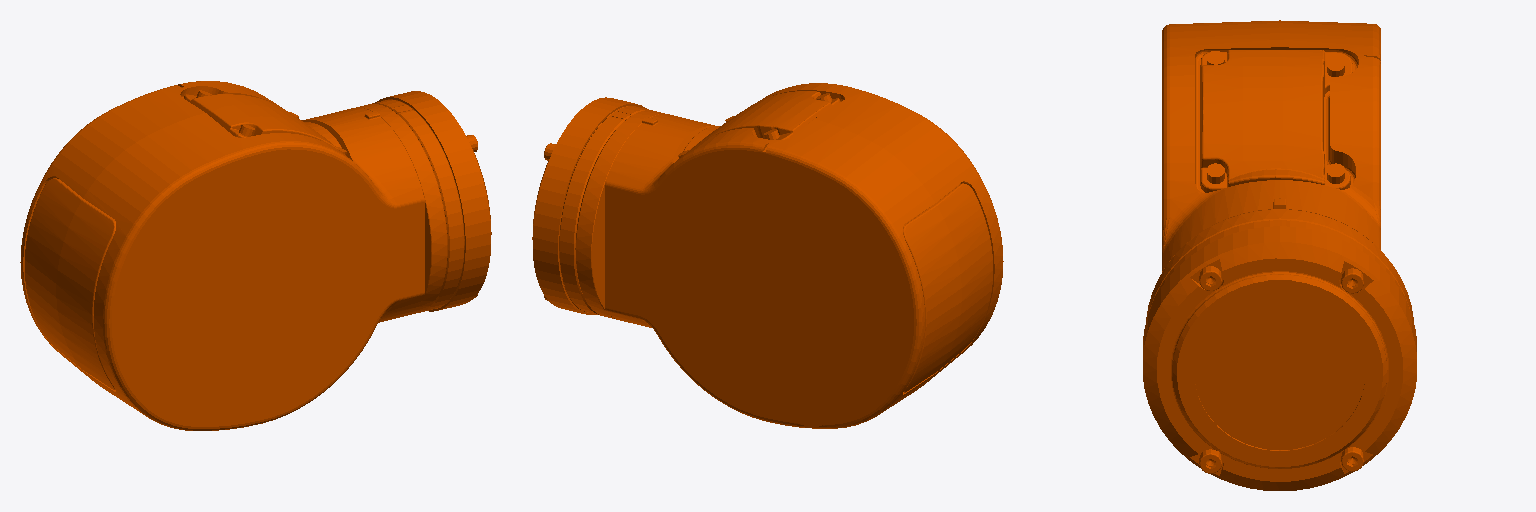
URDF robot description (IRB1200_5_90_STD):
<?xml version="1.0" ?>
<robot name="IRB1200_5_90_STD">

<link name="base_link">
  <inertial>
    <origin xyz="-0.023637177591968993 0.0004754421976295026 0.11218867494644966" rpy="0 0 0"/>
    <mass value="83.56354769083484"/>
    <inertia ixx="0.579276" iyy="0.781207" izz="0.698188" ixy="0.004313" iyz="-0.001283" ixz="-0.005073"/>
  </inertial>
  <visual>
    <origin xyz="0 0 0" rpy="0 0 0"/>
    <geometry>
      <mesh filename="meshes/base_link.stl" scale="0.001 0.001 0.001"/>
    </geometry>
  </visual>
  <collision>
    <origin xyz="0 0 0" rpy="0 0 0"/>
    <geometry>
      <mesh filename="meshes/base_link.stl" scale="0.001 0.001 0.001"/>
    </geometry>
  </collision>
</link>

<link name="link_1">
  <inertial>
    <origin xyz="-0.0032935657511956266 0.0004389797692321195 0.1023344133013073" rpy="0 0 0"/>
    <mass value="47.59365241562889"/>
    <inertia ixx="0.595053" iyy="0.377165" izz="0.433688" ixy="-0.000188" iyz="0.000756" ixz="-0.004502"/>
  </inertial>
  <visual>
    <origin xyz="-0.0 -0.0 -0.219" rpy="0 0 0"/>
    <geometry>
      <mesh filename="meshes/link_1.stl" scale="0.001 0.001 0.001"/>
    </geometry>
  </visual>
  <collision>
    <origin xyz="-0.0 -0.0 -0.219" rpy="0 0 0"/>
    <geometry>
      <mesh filename="meshes/link_1.stl" scale="0.001 0.001 0.001"/>
    </geometry>
  </collision>
</link>

<link name="link_2">
  <inertial>
    <origin xyz="-0.04459016571148093 0.10585337629572772 0.20122835114038373" rpy="0 0 0"/>
    <mass value="0.0002346193667311735"/>
    <inertia ixx="1e-06" iyy="1e-06" izz="0.0" ixy="-0.0" iyz="-0.0" ixz="-0.0"/>
  </inertial>
  <visual>
    <origin xyz="-0.0 0.0605 -0.3991" rpy="0 0 0"/>
    <geometry>
      <mesh filename="meshes/link_2.stl" scale="0.001 0.001 0.001"/>
    </geometry>
  </visual>
  <collision>
    <origin xyz="-0.0 0.0605 -0.3991" rpy="0 0 0"/>
    <geometry>
      <mesh filename="meshes/link_2.stl" scale="0.001 0.001 0.001"/>
    </geometry>
  </collision>
</link>

<link name="link_3">
  <inertial>
    <origin xyz="0.09791045075109603 0.05809893106914741 0.03486958303185361" rpy="0 0 0"/>
    <mass value="50.4799691302992"/>
    <inertia ixx="0.160642" iyy="0.616313" izz="0.567714" ixy="0.000817" iyz="0.000117" ixz="-0.04111"/>
  </inertial>
  <visual>
    <origin xyz="-0.0 0.058 -0.8471" rpy="0 0 0"/>
    <geometry>
      <mesh filename="meshes/link_3.stl" scale="0.001 0.001 0.001"/>
    </geometry>
  </visual>
  <collision>
    <origin xyz="-0.0 0.058 -0.8471" rpy="0 0 0"/>
    <geometry>
      <mesh filename="meshes/link_3.stl" scale="0.001 0.001 0.001"/>
    </geometry>
  </collision>
</link>

<link name="link_4">
  <inertial>
    <origin xyz="0.076261239206589 0.0025635992899178195 0.0007346564679856504" rpy="0 0 0"/>
    <mass value="13.07948314741883"/>
    <inertia ixx="0.027901" iyy="0.049444" izz="0.053614" ixy="-0.001885" iyz="-1.3e-05" ixz="0.000399"/>
  </inertial>
  <visual>
    <origin xyz="-0.2885 -0.0 -0.8891" rpy="0 0 0"/>
    <geometry>
      <mesh filename="meshes/link_4.stl" scale="0.001 0.001 0.001"/>
    </geometry>
  </visual>
  <collision>
    <origin xyz="-0.2885 -0.0 -0.8891" rpy="0 0 0"/>
    <geometry>
      <mesh filename="meshes/link_4.stl" scale="0.001 0.001 0.001"/>
    </geometry>
  </collision>
</link>

<link name="link_5">
  <inertial>
    <origin xyz="0.009412902573906423 0.026847797041943774 -2.972957832358958e-06" rpy="0 0 0"/>
    <mass value="4.044605310431727"/>
    <inertia ixx="0.002998" iyy="0.007142" izz="0.006032" ixy="-7.2e-05" iyz="0.0" ixz="0.0"/>
  </inertial>
  <visual>
    <origin xyz="-0.451 0.0285 -0.8891" rpy="0 0 0"/>
    <geometry>
      <mesh filename="meshes/link_5.stl" scale="0.001 0.001 0.001"/>
    </geometry>
  </visual>
  <collision>
    <origin xyz="-0.451 0.0285 -0.8891" rpy="0 0 0"/>
    <geometry>
      <mesh filename="meshes/link_5.stl" scale="0.001 0.001 0.001"/>
    </geometry>
  </collision>
</link>

<link name="link_6">
  <inertial>
    <origin xyz="0.0024818942259828836 -8.835029930799617e-13 -0.00036127714748035444" rpy="0 0 0"/>
    <mass value="0.03376885335108457"/>
    <inertia ixx="8e-06" iyy="4e-06" izz="4e-06" ixy="0.0" iyz="0.0" ixz="0.0"/>
  </inertial>
  <visual>
    <origin xyz="-0.528 0.0 -0.8891" rpy="0 0 0"/>
    <geometry>
      <mesh filename="meshes/link_6.stl" scale="0.001 0.001 0.001"/>
    </geometry>
  </visual>
  <collision>
    <origin xyz="-0.528 0.0 -0.8891" rpy="0 0 0"/>
    <geometry>
      <mesh filename="meshes/link_6.stl" scale="0.001 0.001 0.001"/>
    </geometry>
  </collision>
</link>

<joint name="joint_1" type="revolute">
  <origin xyz="0.0 0.0 0.219" rpy="0 0 0"/>
  <parent link="base_link"/>
  <child link="link_1"/>
  <axis xyz="0.0 0.0 1.0"/>
  <limit lower="-2.9671" upper="2.9671" effort="0" velocity="5.0265" />
</joint>

<joint name="joint_2" type="revolute">
  <origin xyz="0.0 -0.0605 0.1801" rpy="0 0 0"/>
  <parent link="link_1"/>
  <child link="link_2"/>
  <axis xyz="0.0 1.0 0.0"/>
  <limit lower="-1.7453" upper="2.2689" effort="0" velocity="3.9095" />
</joint>

<joint name="joint_3" type="revolute">
  <origin xyz="0.0 0.0025 0.448" rpy="0 0 0"/>
  <parent link="link_2"/>
  <child link="link_3"/>
  <axis xyz="0.0 -1.0 0.0"/>
  <limit lower="-3.4907" upper="1.2217" effort="0" velocity="5.1836" />
</joint>

<joint name="joint_4" type="revolute">
  <origin xyz="0.2885 0.058 0.042" rpy="0 0 0"/>
  <parent link="link_3"/>
  <child link="link_4"/>
  <axis xyz="-1.0 0.0 0.0"/>
  <limit lower="-4.7124" upper="4.7124" effort="0" velocity="6.9813" />
</joint>

<joint name="joint_5" type="revolute">
  <origin xyz="0.1625 -0.0285 0.0" rpy="0 0 0"/>
  <parent link="link_4"/>
  <child link="link_5"/>
  <axis xyz="0.0 1.0 0.0"/>
  <limit lower="-2.2689" upper="2.2689" effort="0" velocity="7.0686" />
</joint>

<joint name="joint_6" type="revolute">
  <origin xyz="0.077 0.0285 0.0" rpy="0 0 0"/>
  <parent link="link_5"/>
  <child link="link_6"/>
  <axis xyz="1.0 0.0 0.0"/>
  <limit lower="-6.9813" upper="6.9813" effort="0" velocity="10.4719" />
</joint>

<link name="flange">
  <inertial>
    <origin xyz="0 0 0" rpy="0 0 0"/>
    <mass value="0.01"/>
    <inertia ixx="1e-06" iyy="1e-06" izz="1e-06" ixy="0" iyz="0" ixz="0"/>
  </inertial>
</link>

<link name="tool0">
  <inertial>
    <origin xyz="0 0 0" rpy="0 0 0"/>
    <mass value="0.01"/>
    <inertia ixx="1e-06" iyy="1e-06" izz="1e-06" ixy="0" iyz="0" ixz="0"/>
  </inertial>
</link>

<joint name="joint_6-flange" type="fixed">
  <origin xyz="0.005 0 0" rpy="0 1.57 0"/>
  <parent link="link_6"/>
  <child link="flange"/>
</joint>

<joint name="flange-tool0" type="fixed">
  <origin xyz="0 0 0" rpy="0 0 0"/>
  <parent link="flange"/>
  <child link="tool0"/>
</joint>

</robot>

--- Render facts (derived) ---
3 views of the same robot in one strip: view 1: azimuth 30°, elevation 25°; view 2: azimuth 150°, elevation 25°; view 3: azimuth 270°, elevation 25° (orthographic).
Model IRB1200_5_90_STD with 9 links and 8 joints (6 revolute, 2 fixed), rooted at base_link, posed all joints at 0.
Links seen in each view (by area): view 1: link_5; view 2: link_5; view 3: link_5.
Boxes of the visible links, bbox=[...] form: link_5: bbox=[20, 81, 491, 430]; link_5: bbox=[532, 83, 1003, 428]; link_5: bbox=[1143, 20, 1416, 490].
Size in the robot's own frame: 0.1369 by 0.0664 by 0.0968 metres.
1 mesh visuals loaded from 7 distinct referenced files (1 binary STL); not drawn: 6 (reference not matched to a file when rendering).